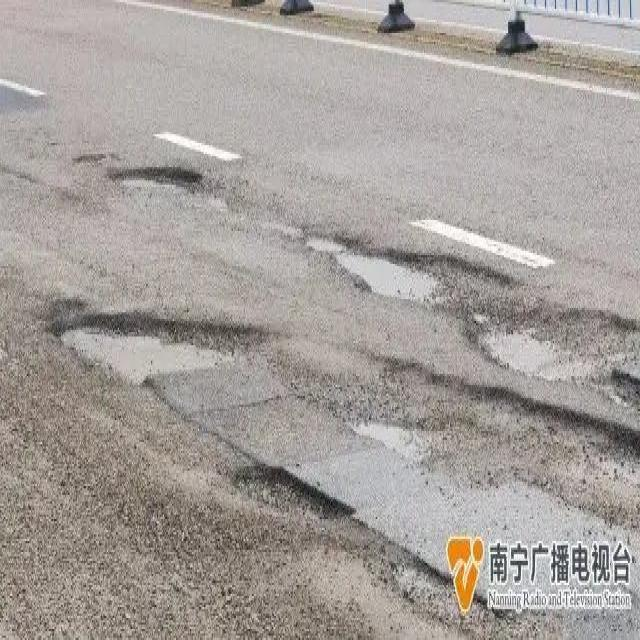Pothole: (287, 218, 636, 404), (43, 299, 266, 403), (330, 376, 453, 484), (228, 457, 360, 539), (386, 532, 492, 631), (71, 145, 213, 209)
